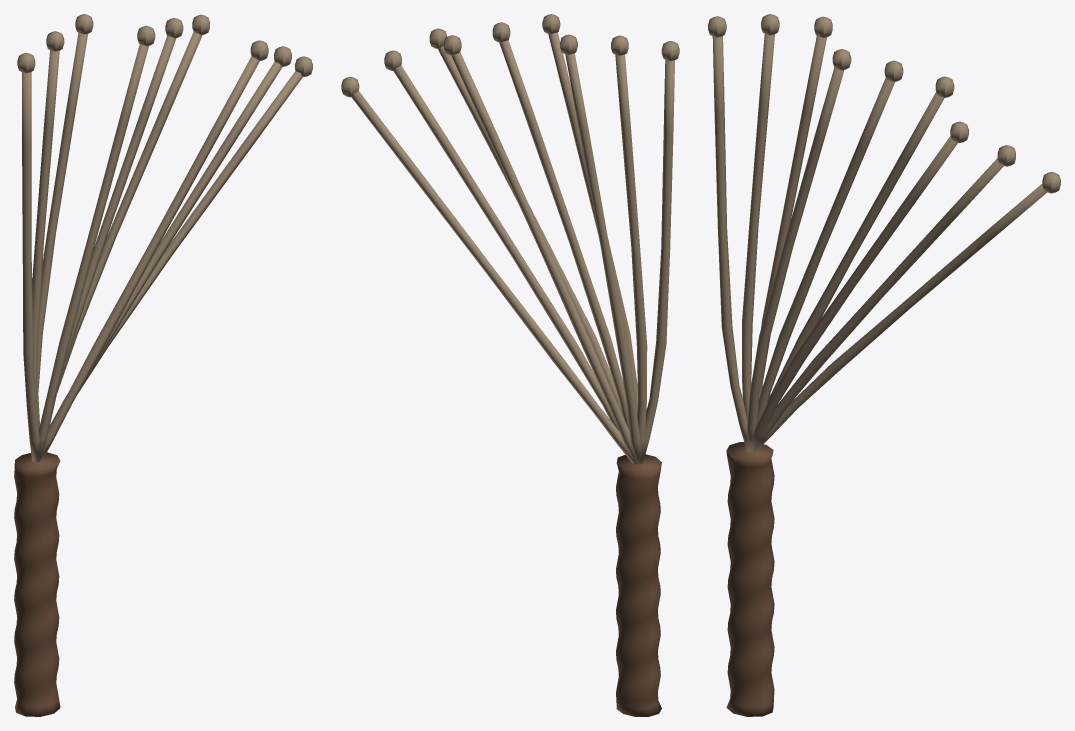
The model's file is cat-o-nine-tails.glb.
3 renders of one model, left to right at view 1: azimuth 30°, elevation 25°; view 2: azimuth 150°, elevation 25°; view 3: azimuth 330°, elevation 25°, orthographic. The views are drawn at different scales.
Visible parts, largest first — view 1: cat-o-nine-tails; view 2: cat-o-nine-tails; view 3: cat-o-nine-tails.
Part boxes in pixels (x1,y1,x2,y2): cat-o-nine-tails: (14, 14, 312, 716); cat-o-nine-tails: (341, 14, 679, 716); cat-o-nine-tails: (708, 14, 1060, 716).
Size of the model in its own units: 0.4972 by 1 by 0.0842.
